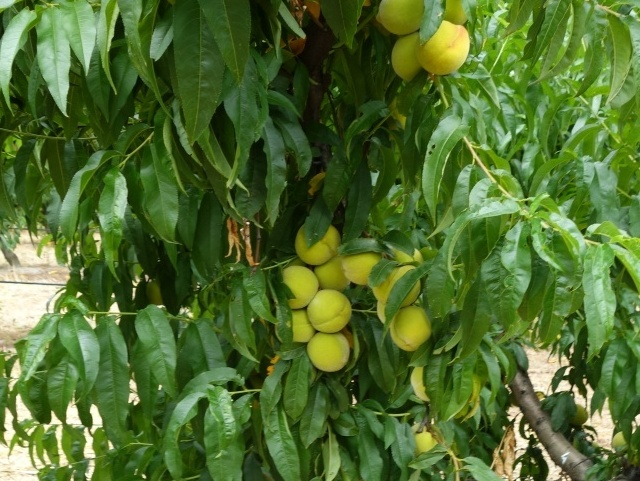peach: (419, 19, 475, 78), (365, 258, 424, 313), (292, 215, 347, 266), (387, 26, 433, 86), (389, 302, 438, 355), (307, 286, 355, 334), (308, 324, 353, 375), (373, 1, 430, 41), (275, 262, 322, 309), (310, 248, 358, 293), (340, 246, 388, 288), (281, 304, 322, 344), (405, 365, 435, 408), (435, 1, 478, 28), (568, 399, 591, 429), (608, 428, 633, 454)
